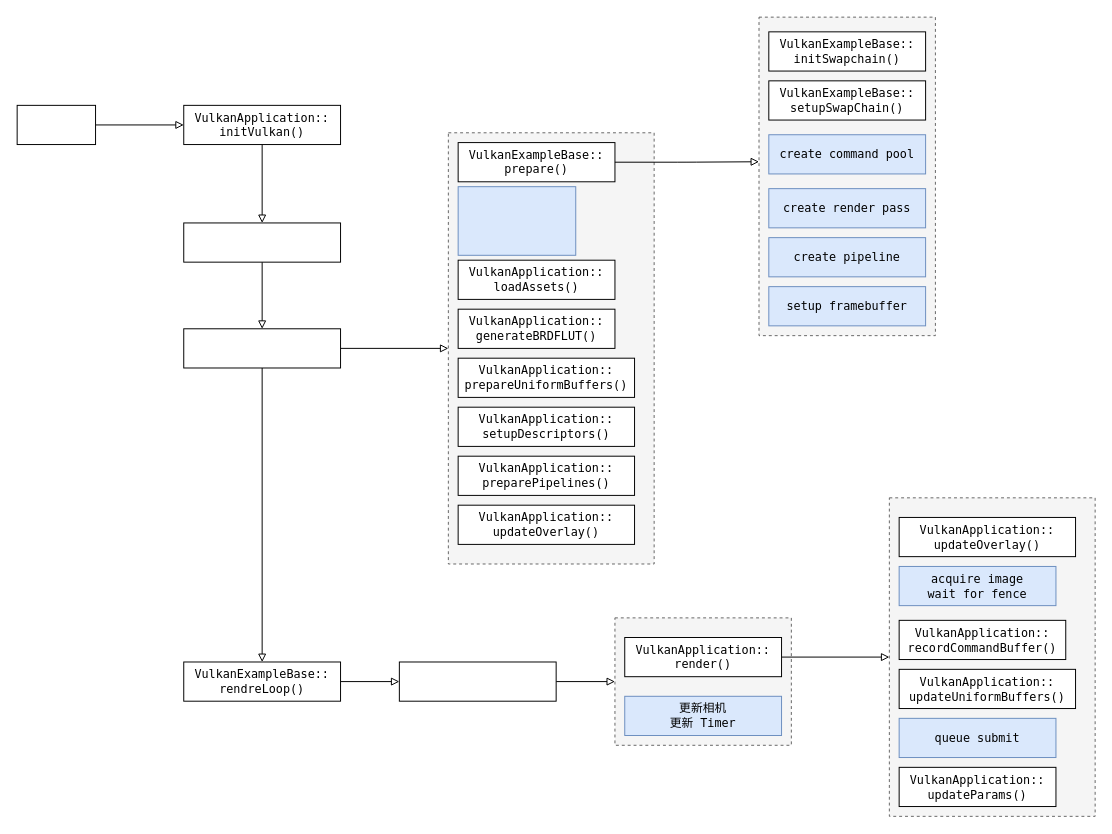
This 1112x834 diagram has some shape labels left out. Each missing label, with the box of its shape:
VulkanApplication:: prepare(): (183, 328, 341, 368)
VulkanExampleBase:: renderFrame(): (398, 661, 556, 701)
VulkanExampleBase:: setupWindow(): (183, 222, 341, 262)
WinMain(): (16, 104, 96, 145)
初始化相机参数 同步原语 command buffers 其他资源: (457, 186, 576, 255)
